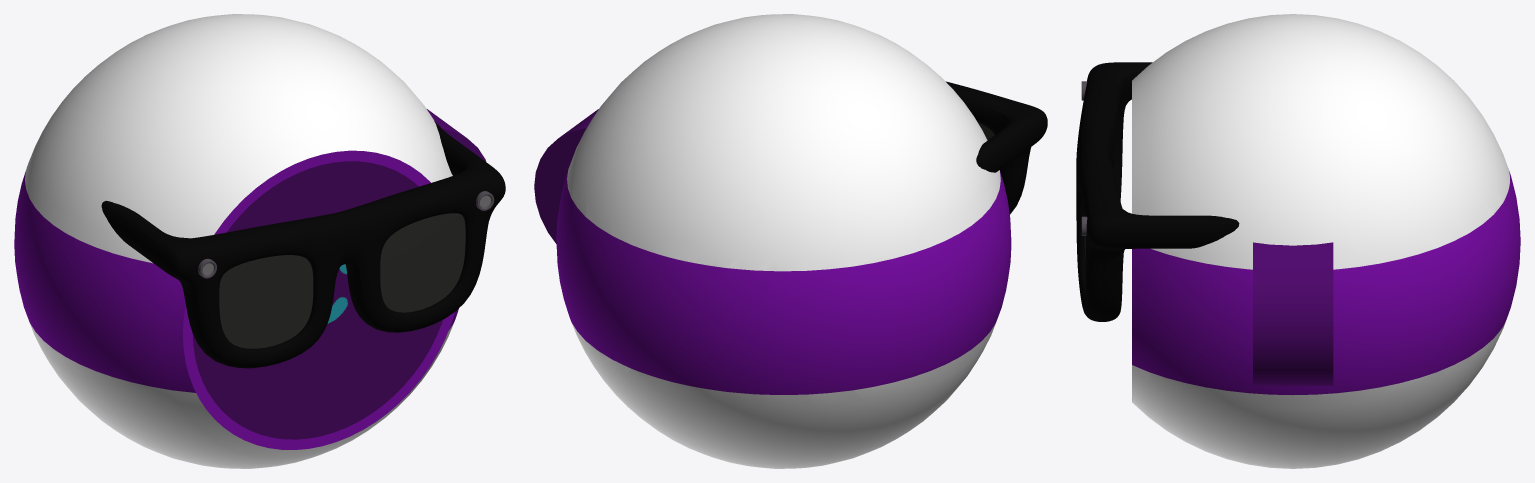
File: wendyGlassesModelS3.glb
3 renders of one model, left to right at view 1: azimuth 30°, elevation 25°; view 2: azimuth 150°, elevation 25°; view 3: azimuth 270°, elevation 25°, orthographic.
Visible parts, largest first — view 1: Wendy+glasses.002; view 2: Wendy+glasses.002; view 3: Wendy+glasses.002.
Part boxes in pixels (<box>): Wendy+glasses.002: <box>14,14,505,468</box>; Wendy+glasses.002: <box>534,14,1047,468</box>; Wendy+glasses.002: <box>1076,14,1520,468</box>.
Bounding box in the file's own units: 2.17 × 2 × 1.95.
5 materials, 1 textured.
